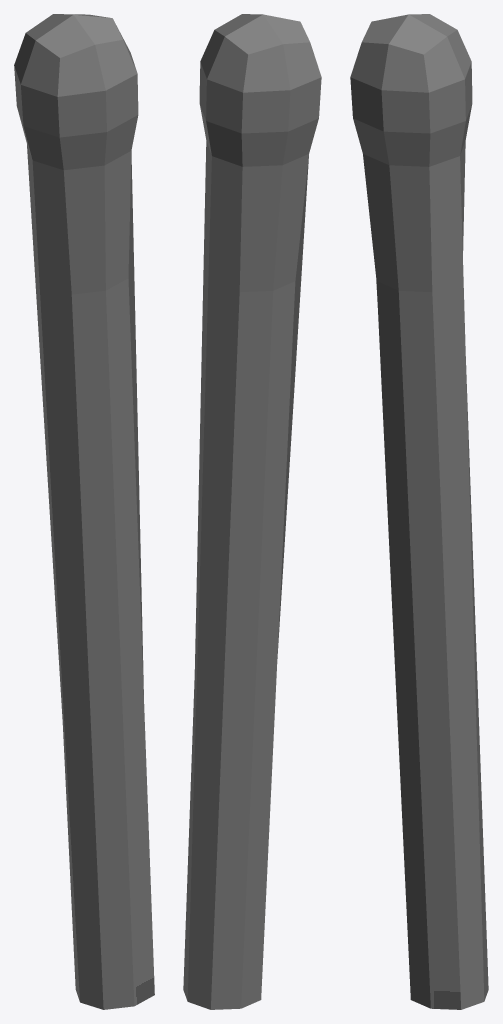
The model's file is lever_kol.fbx.
3 views of the same model, side by side, from view 1: azimuth 30°, elevation 25°; view 2: azimuth 210°, elevation 25°; view 3: azimuth 330°, elevation 25° (orthographic).
Parts seen in each view (by area): view 1: Cylinder.003; view 2: Cylinder.003; view 3: Cylinder.003.
Part boxes in pixels (x1,y1,x2,y2): Cylinder.003: [14, 14, 154, 1009]; Cylinder.003: [183, 14, 321, 1009]; Cylinder.003: [350, 14, 488, 1009].
Bounding box in the file's own units: 0.1845 × 1.35 × 0.1477.
Materials: 1 (1 with a texture image).
